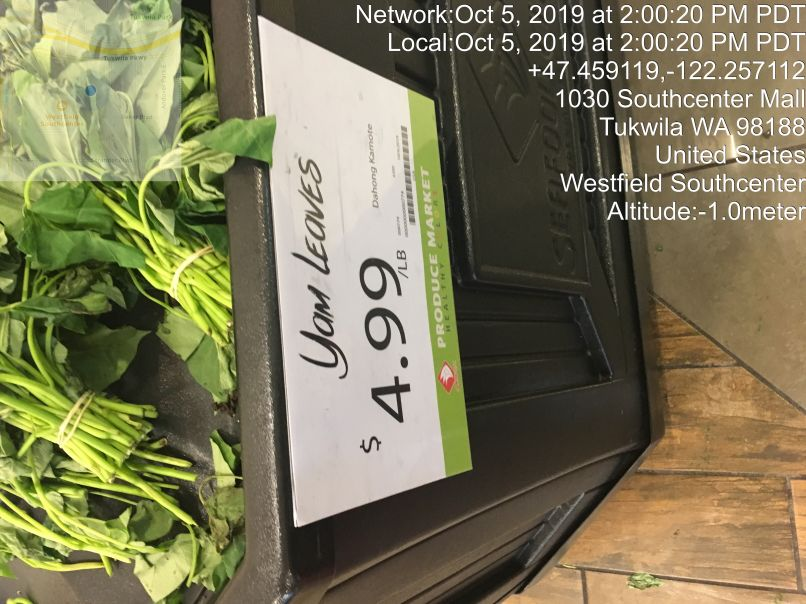Label: (247, 12, 478, 510)
Location: (547, 83, 806, 196)
Time: (349, 2, 806, 58)
Yam Leaves: (5, 12, 229, 594)
